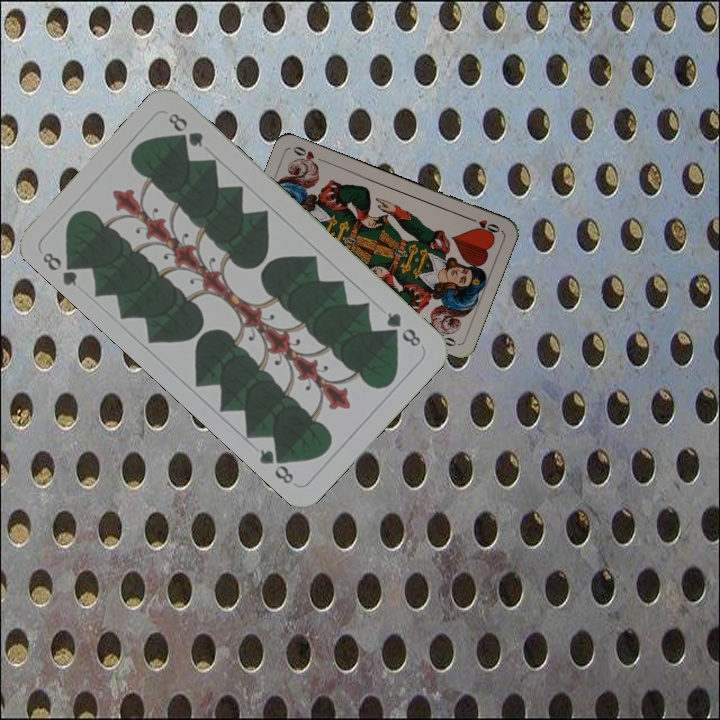G8: (38, 248, 83, 289), (382, 308, 424, 350)
HO: (464, 213, 503, 237)
